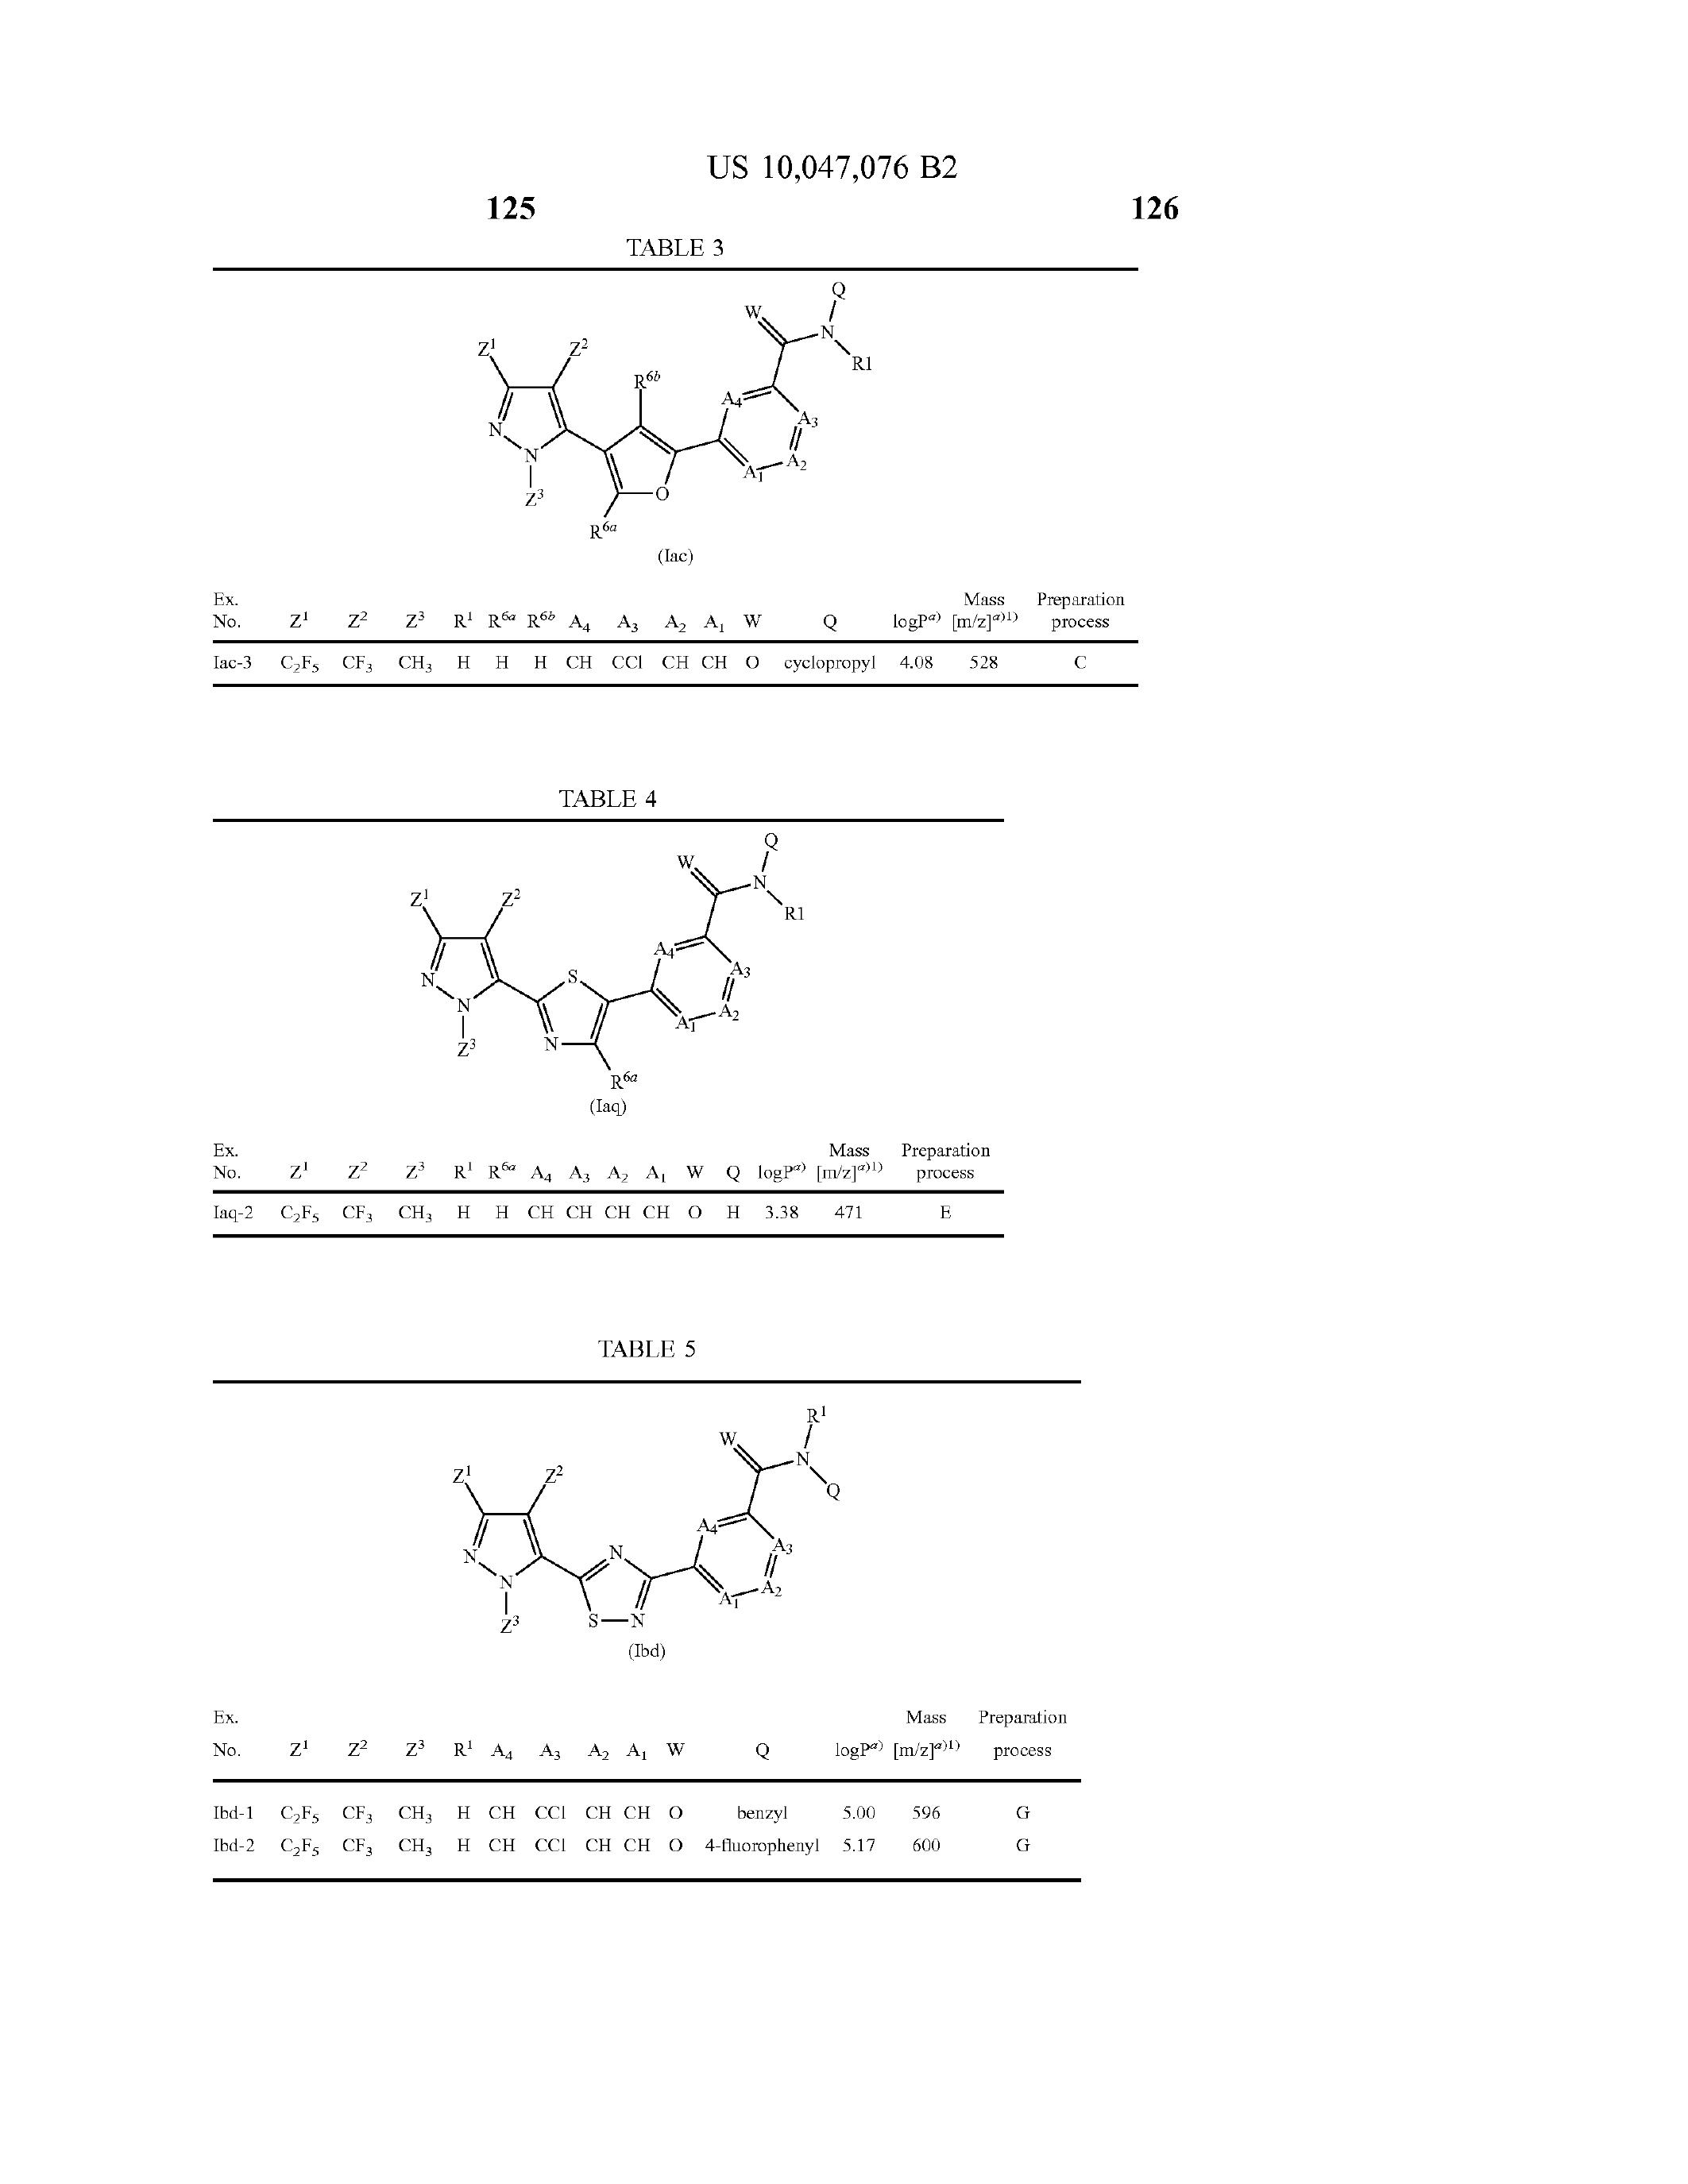relevant-structures: (397, 1399, 1067, 1689), (426, 259, 1016, 573), (388, 824, 855, 1122)
